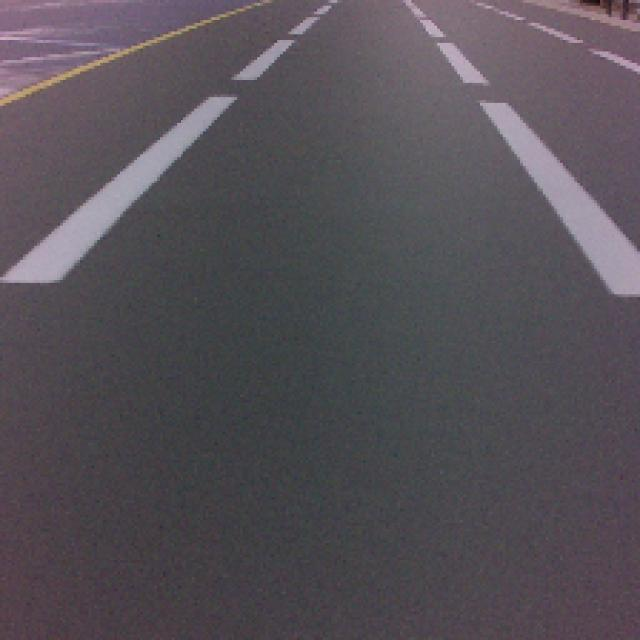Road: (0, 245, 635, 636)
